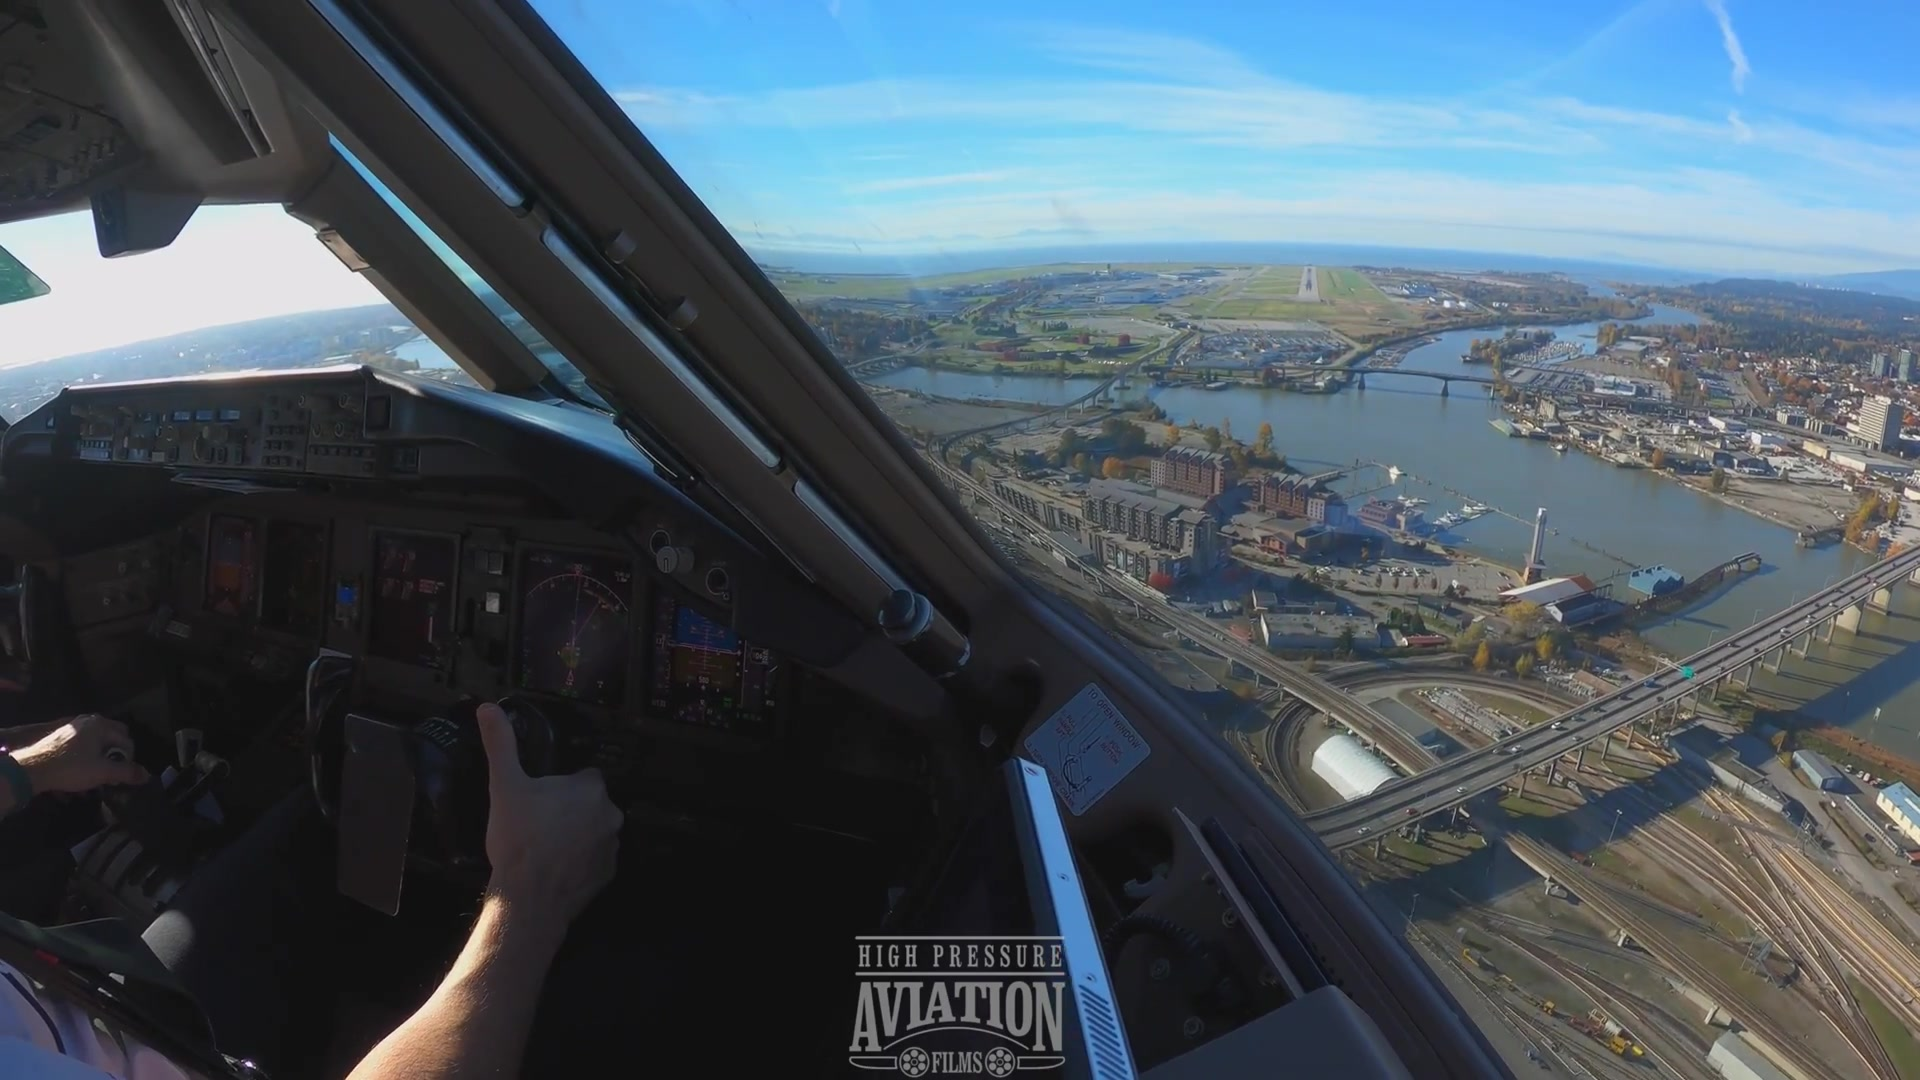runway: (1295, 266, 1319, 305)
